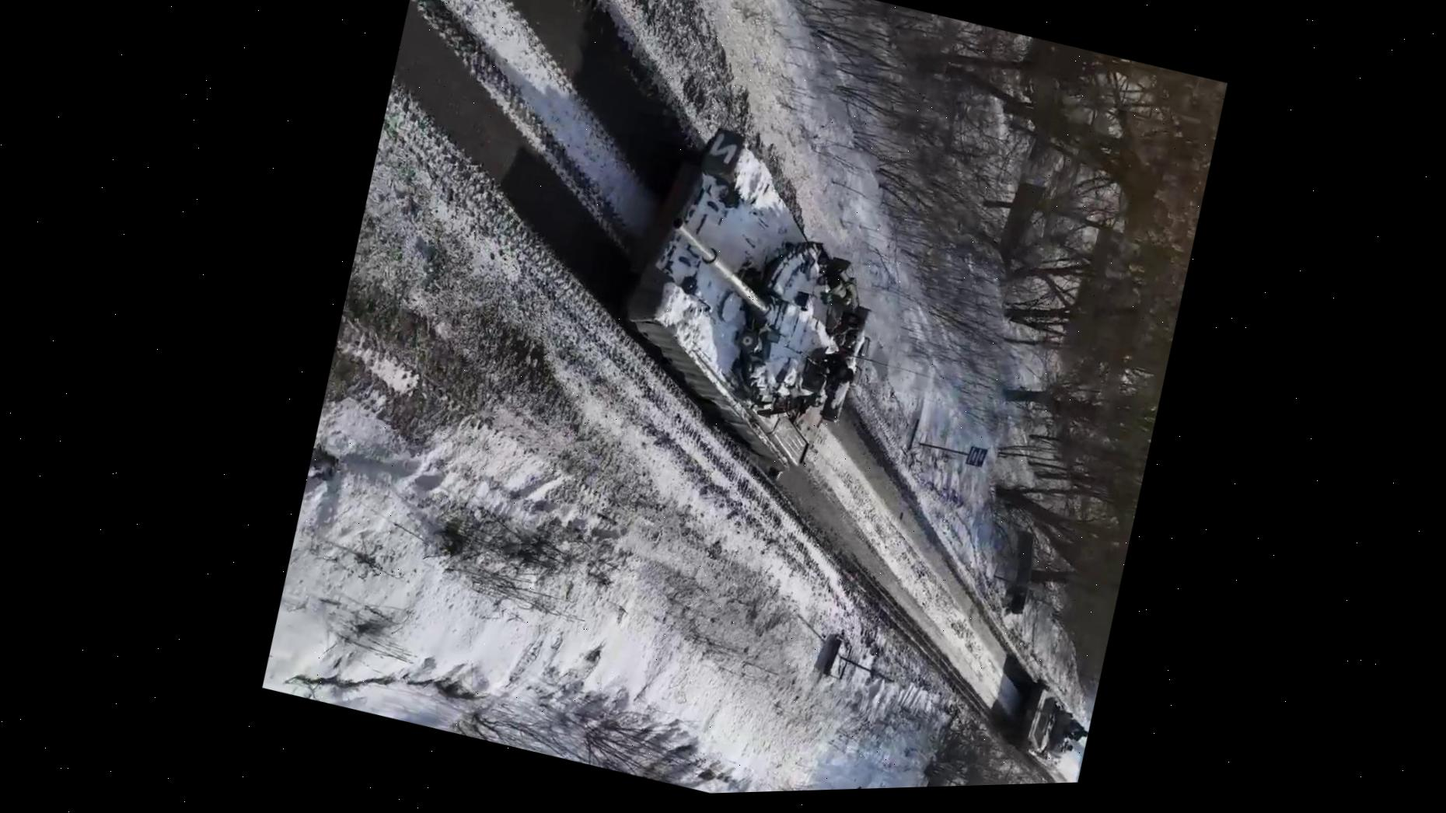tank: (578, 100, 923, 484), (1000, 673, 1101, 779)
